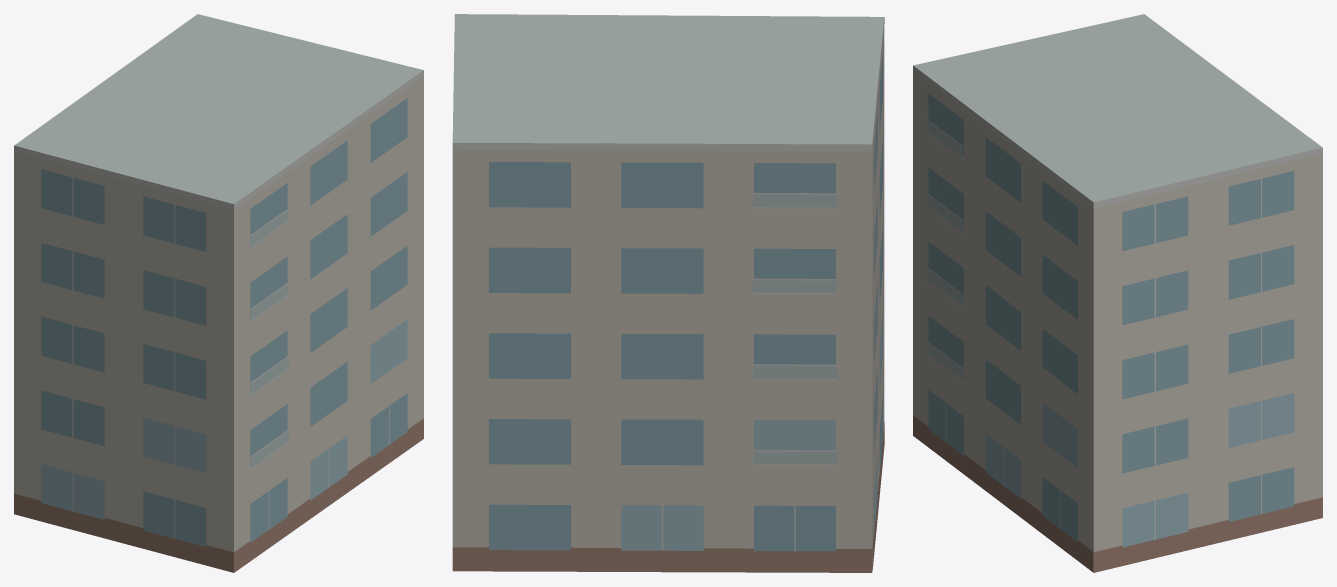
File: survey-upis-32769785.glb
3 renders of one model, left to right at view 1: azimuth 30°, elevation 25°; view 2: azimuth 150°, elevation 25°; view 3: azimuth 270°, elevation 25°, orthographic. The views are drawn at different scales.
Visible parts, largest first — view 1: survey-upis-32769785.tmp; view 2: survey-upis-32769785.tmp; view 3: survey-upis-32769785.tmp.
Part boxes in pixels (x1,y1,x2,y2): survey-upis-32769785.tmp: (14, 14, 423, 572); survey-upis-32769785.tmp: (452, 14, 884, 572); survey-upis-32769785.tmp: (913, 14, 1322, 572).
Bounding box in the file's own units: 16.38 × 15 × 15.05.
